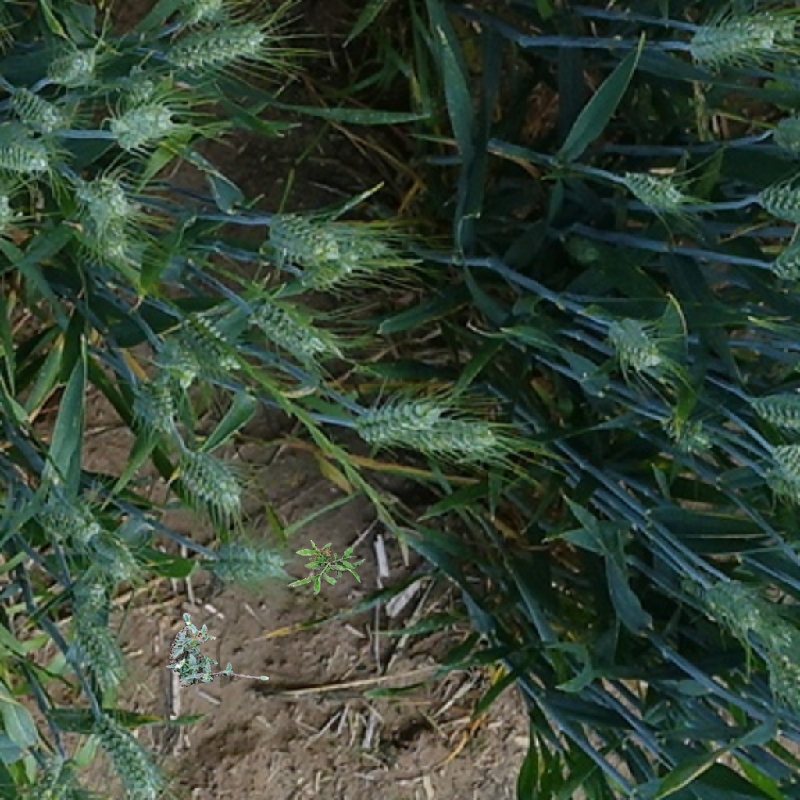spikelet: (84, 710, 164, 800), (21, 487, 108, 561), (297, 231, 400, 287), (353, 387, 447, 446), (261, 203, 347, 263), (165, 28, 275, 74), (247, 300, 327, 360), (742, 596, 800, 673), (175, 452, 246, 514), (175, 290, 241, 353), (107, 98, 181, 154), (688, 22, 773, 66), (66, 618, 124, 682), (696, 575, 763, 630), (83, 519, 143, 579), (130, 373, 185, 432), (1, 129, 60, 183), (212, 542, 286, 585), (605, 315, 665, 368), (710, 7, 797, 42), (625, 169, 691, 214), (419, 414, 497, 451), (9, 85, 71, 131), (41, 39, 100, 87), (765, 651, 800, 725), (660, 408, 716, 454), (107, 58, 164, 103), (76, 171, 124, 221), (759, 458, 800, 515), (66, 579, 111, 625), (30, 756, 76, 799), (751, 391, 800, 430), (170, 1, 235, 28), (757, 183, 799, 223), (767, 108, 800, 158), (83, 217, 124, 257), (769, 437, 800, 485), (768, 241, 800, 282)
weed: (166, 613, 270, 687), (287, 540, 366, 595)
